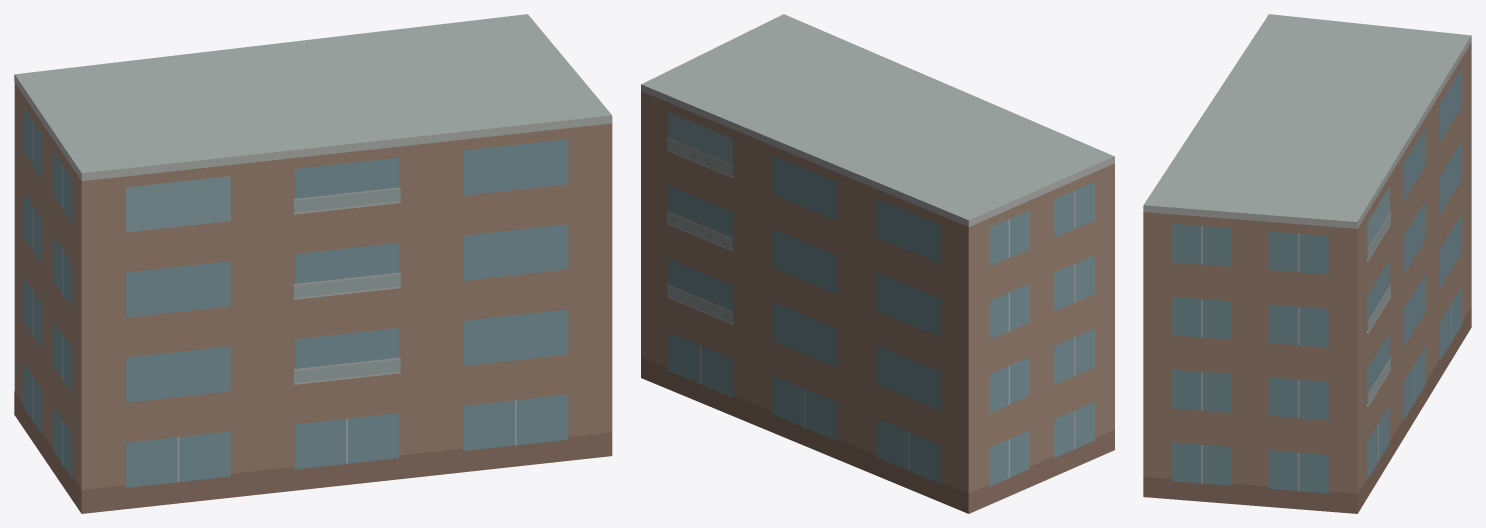
Rendered from survey-upis-32870220.glb.
The picture shows the model from 3 angles, left to right: view 1: azimuth 30°, elevation 25°; view 2: azimuth 150°, elevation 25°; view 3: azimuth 270°, elevation 25°; orthographic projection. The views are drawn at different scales.
Visible parts, largest first — view 1: survey-upis-32870220.tmp; view 2: survey-upis-32870220.tmp; view 3: survey-upis-32870220.tmp.
Part boxes in pixels (box(x1,y1,x2,y2)): survey-upis-32870220.tmp: box(14, 14, 612, 513); survey-upis-32870220.tmp: box(641, 14, 1114, 513); survey-upis-32870220.tmp: box(1143, 14, 1471, 513).
Size of the model in its own units: 16.07 by 10.5 by 10.72.
